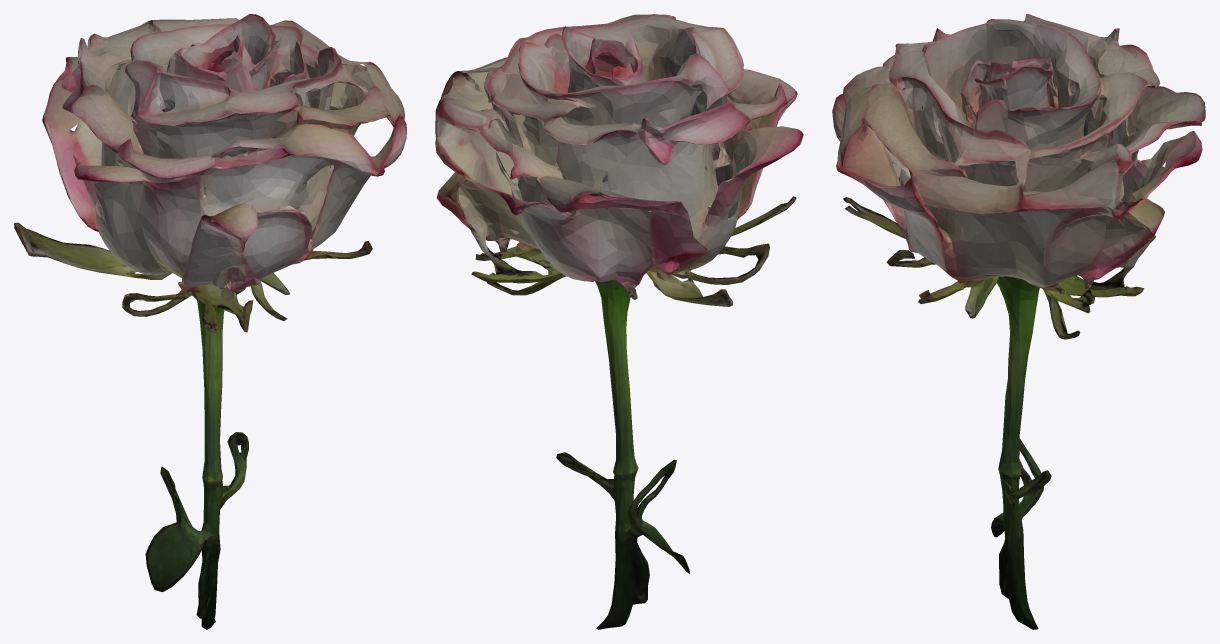
3 views of the same model, side by side, from view 1: azimuth 30°, elevation 25°; view 2: azimuth 150°, elevation 25°; view 3: azimuth 270°, elevation 25° (orthographic). The views are drawn at different scales.
Visible parts, largest first — view 1: world; view 2: world; view 3: world.
Part boxes in pixels (x1,y1,x2,y2): world: (14, 14, 406, 629); world: (435, 14, 803, 629); world: (832, 14, 1205, 629).
Bounding box in the file's own units: 0.5616 × 0.968 × 0.5615.
Materials: 1 (1 with a texture image).
